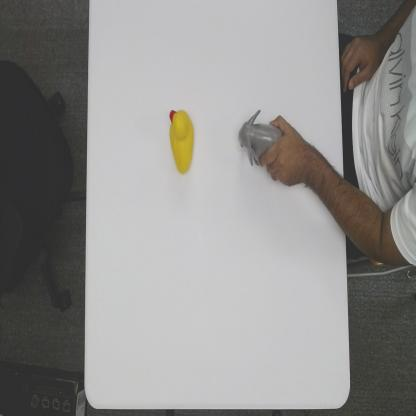Arm: (304, 139, 344, 241)
Duck: (169, 108, 195, 175)
Elephant: (237, 110, 282, 166)
Hand: (262, 116, 304, 188)
